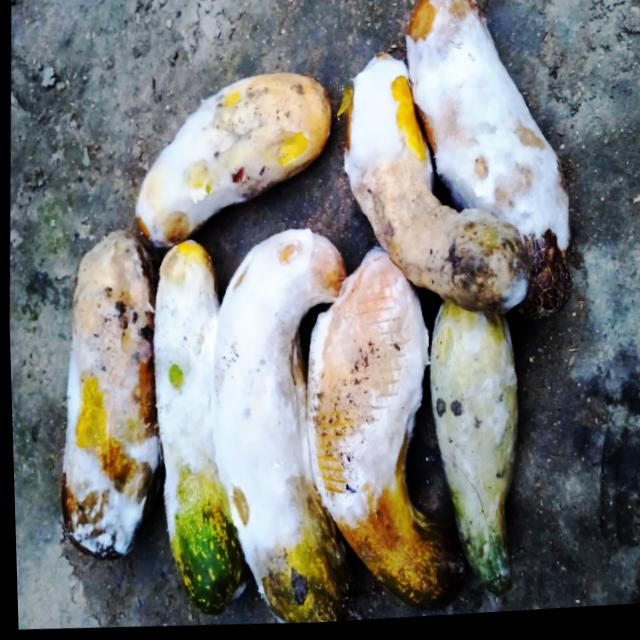Pythium-Fruit-Rot: (332, 52, 535, 328), (393, 0, 579, 273), (198, 224, 329, 588), (297, 253, 436, 539), (49, 261, 162, 563), (130, 71, 306, 255), (421, 315, 520, 576), (134, 260, 222, 546)
